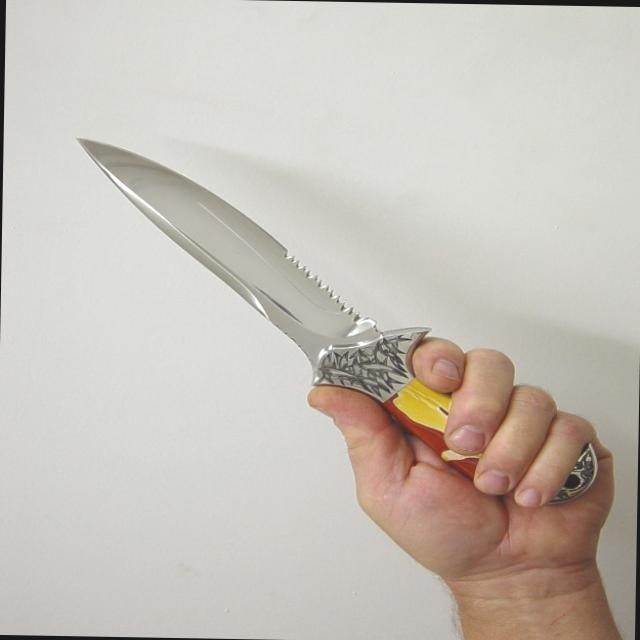knife: (57, 127, 513, 503)
